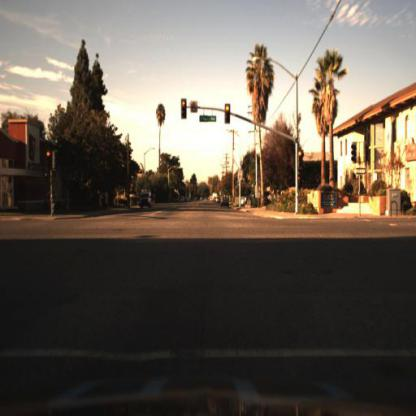car: (139, 188, 156, 216), (219, 192, 232, 210)
pedestrian: (49, 186, 59, 217)
trafficLight-Red: (223, 99, 233, 126), (297, 147, 305, 175)
trafficLight-RedLeft: (44, 147, 55, 173), (179, 99, 190, 123)
